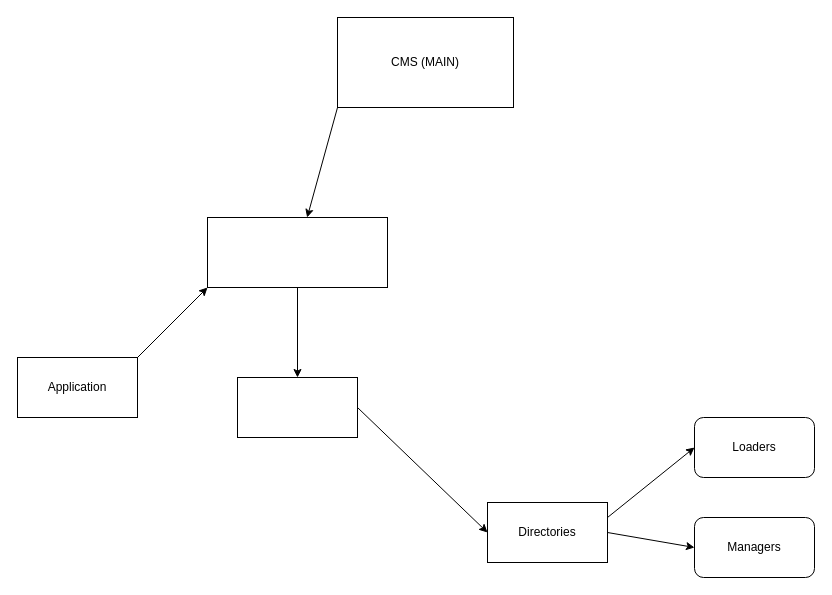
Image size: 832x595. Some labels were removed from this diagram. Here are the shapes that lost their labels. From the top down, the centre of each, then its label:
the point at 297,252: CORE
the point at 297,407: Boot Up
